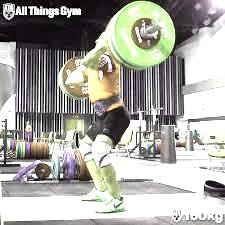Barbell: (155, 17, 170, 30)
